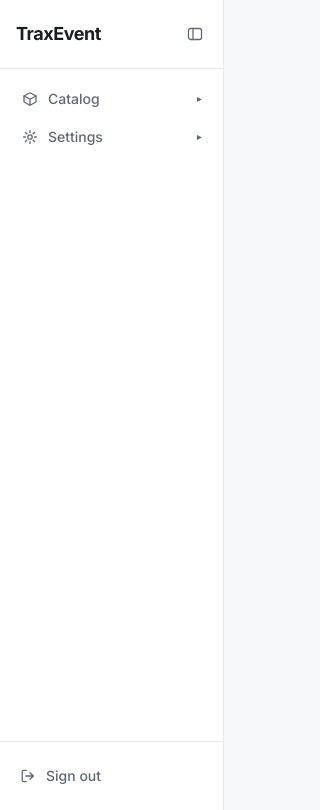
Test case: AdminSidebar — workspace nav (no eventSlug) › collapses the Catalog section
Click the button named "expand catalog": (199, 99) left=187, top=87, right=211, bottom=111
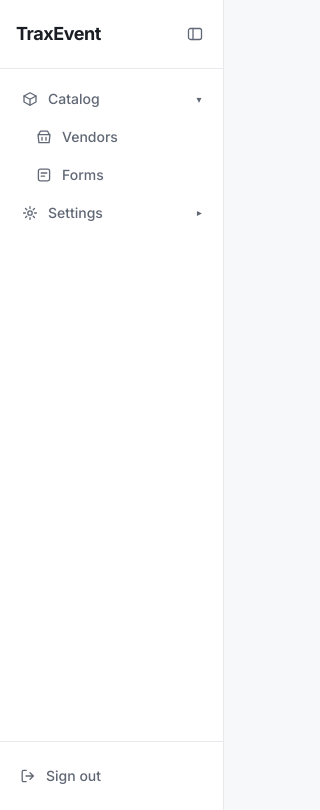
Expected: the text "Vendors" is shown, left=62, top=127, right=118, bottom=147
Expected: the text "Forms" is shown, left=62, top=165, right=104, bottom=185
Click the button named "collapse catalog": (199, 99) left=187, top=87, right=211, bottom=111
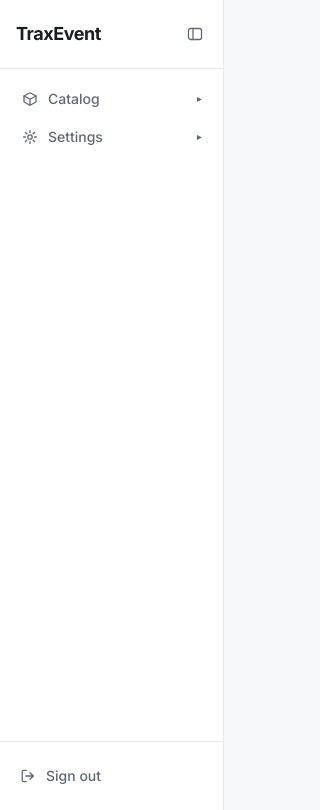
Expected: the link "Vendors" is gone
Expected: the link "Forms" is gone
